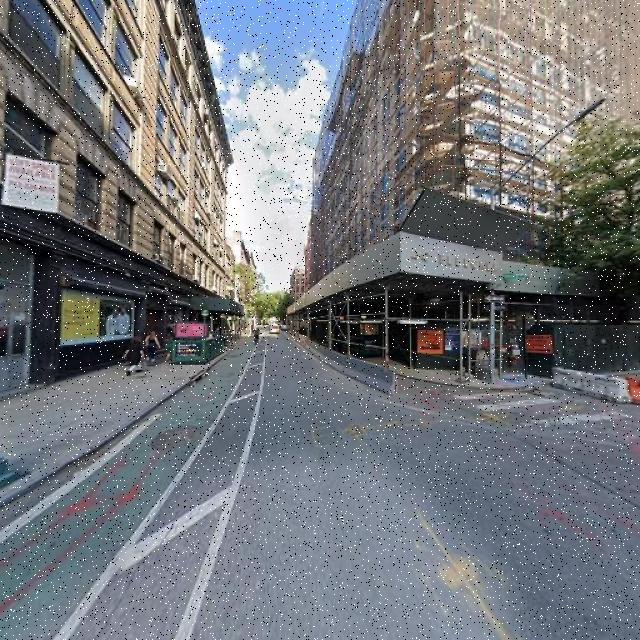Building: (320, 1, 640, 357), (1, 1, 225, 395)
